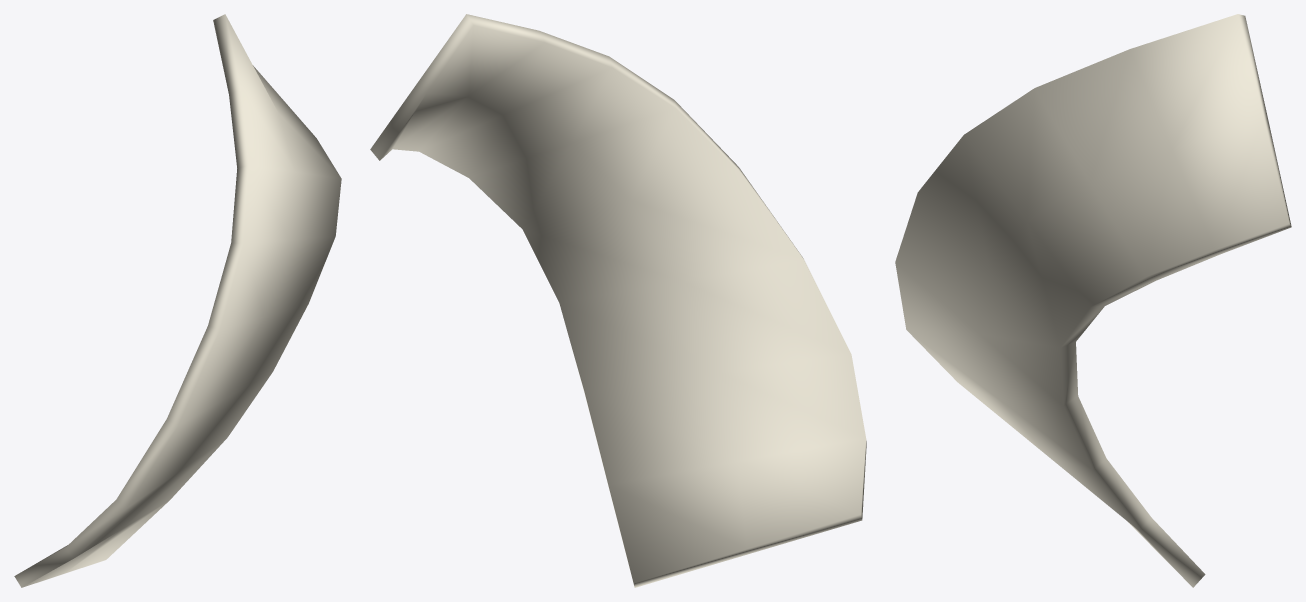
The picture shows the model from 3 angles, left to right: view 1: azimuth 30°, elevation 25°; view 2: azimuth 150°, elevation 25°; view 3: azimuth 270°, elevation 25°; orthographic projection. The views are drawn at different scales.
Visible parts, largest first — view 1: ZA_8efd708d9f4b0a30; view 2: ZA_8efd708d9f4b0a30; view 3: ZA_8efd708d9f4b0a30.
Boxes of the visible parts, left/top/right/bottom form: ZA_8efd708d9f4b0a30: left=14, top=14, right=341, bottom=587; ZA_8efd708d9f4b0a30: left=370, top=14, right=866, bottom=587; ZA_8efd708d9f4b0a30: left=895, top=14, right=1291, bottom=587.
Bounding box in the file's own units: 0.0153 × 0.0199 × 0.0108.
